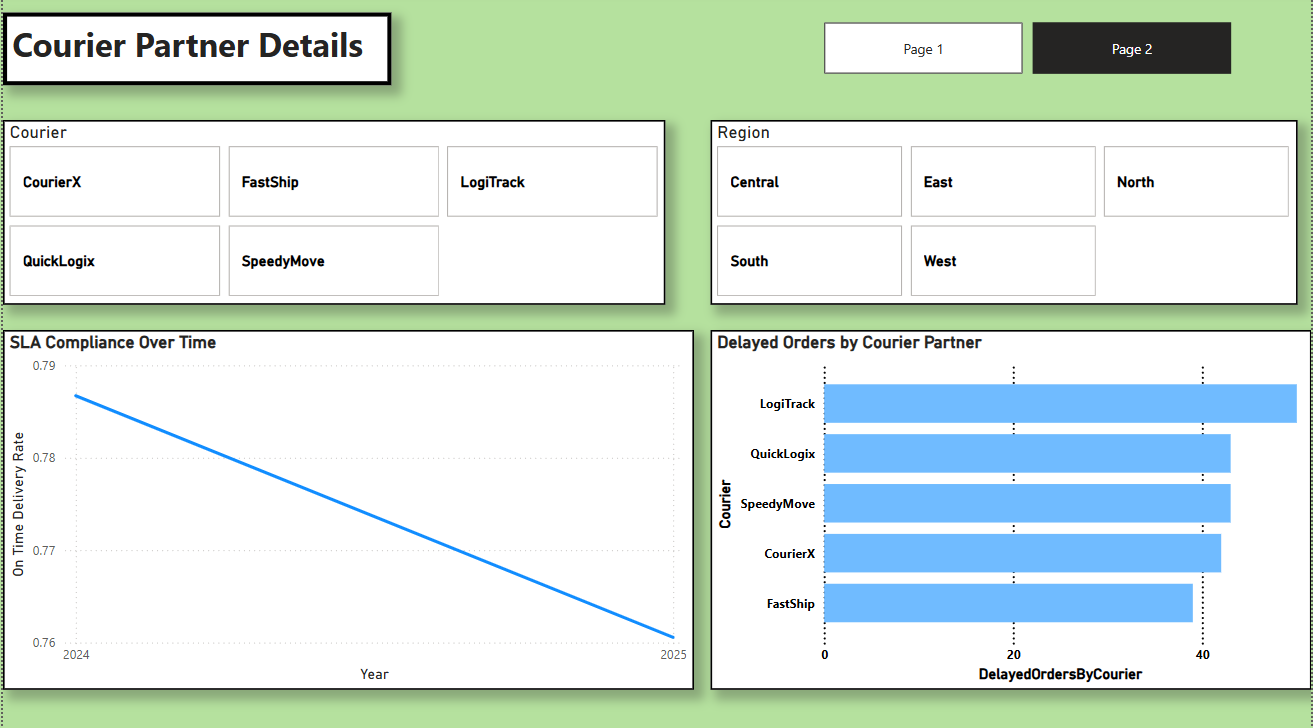

The dashboard page shown, as its layout file describes it:
{"tool":"powerbi","page":{"name":"Page 2","canvas":[1280,720],"ordinal":1},"visuals":[{"type":"barChart","title":"Delayed Orders by Courier Partner","fields":{"Category":["orders.Courier"],"Y":["couriers.DelayedOrdersByCourier"]},"box":[692.1,327.7,588.2,352.2],"z":0},{"type":"advancedSlicerVisual","fields":{"Values":["orders.Region"]},"box":[692.1,122.3,574.7,181],"z":2},{"type":"lineChart","title":"SLA Compliance Over Time","fields":{"Category":["orders.OrderDate.Variation.Date Hierarchy.Year","orders.OrderDate.Variation.Date Hierarchy.Quarter","orders.OrderDate.Variation.Date Hierarchy.Month","orders.OrderDate.Variation.Date Hierarchy.Day"],"Y":["couriers.On Time Delivery Rate"]},"box":[0,327.7,676.2,352.2],"z":3},{"type":"textbox","box":[0,17.1,380.3,70.9],"z":4},{"type":"pageNavigator","box":[803.4,26.9,399.9,50.1],"z":5},{"type":"advancedSlicerVisual","fields":{"Values":["orders.Courier"]},"box":[0,122.3,648.1,181],"z":6}]}

Visuals, with their boxes in screenshot pixels (x1, y1, x2, y2), scaled from the page's 1280x720 canvas onto the 1313x728 screenshot:
"Delayed Orders by Courier Partner" barChart: 710,331,1312,687
advancedSlicerVisual - orders.Region: 710,124,1299,307
"SLA Compliance Over Time" lineChart: 0,331,694,687
textbox: 0,17,390,89
pageNavigator: 824,27,1234,78
advancedSlicerVisual - orders.Courier: 0,124,665,307
